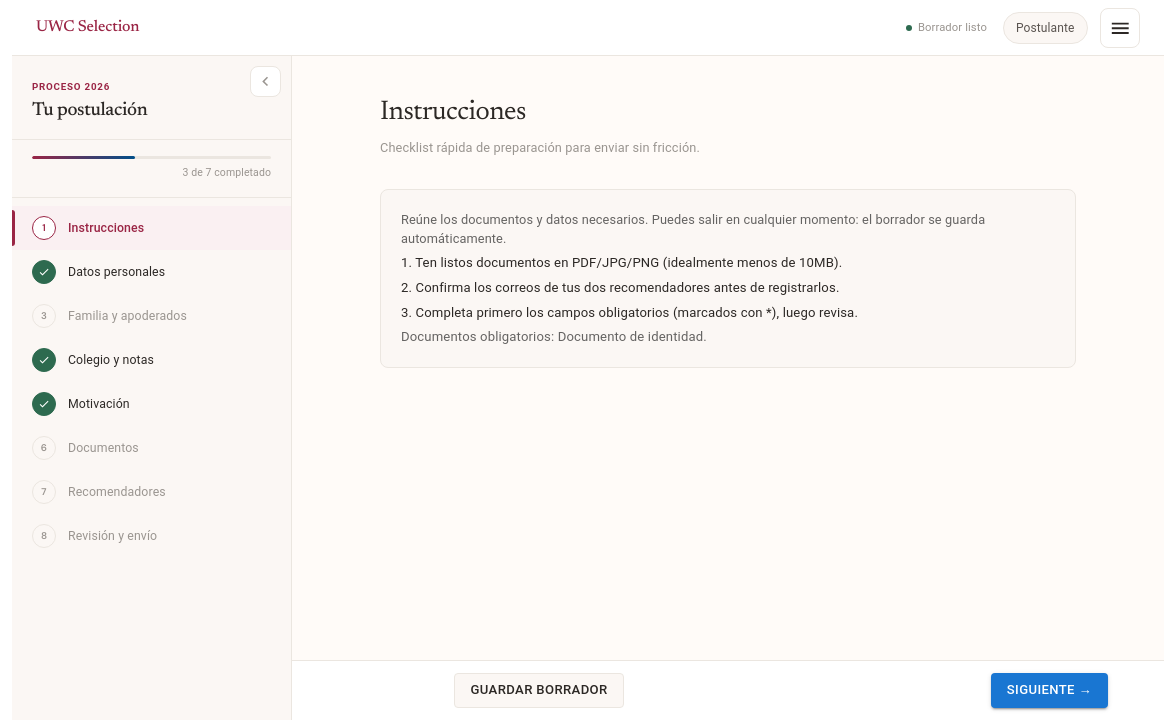
Test: ApplicantApplicationForm › allows saving a single recommender without requiring the second one yet
Step 1. Click the button "7 Recomendadores" → (152, 492), box 12,470 -> 291,514
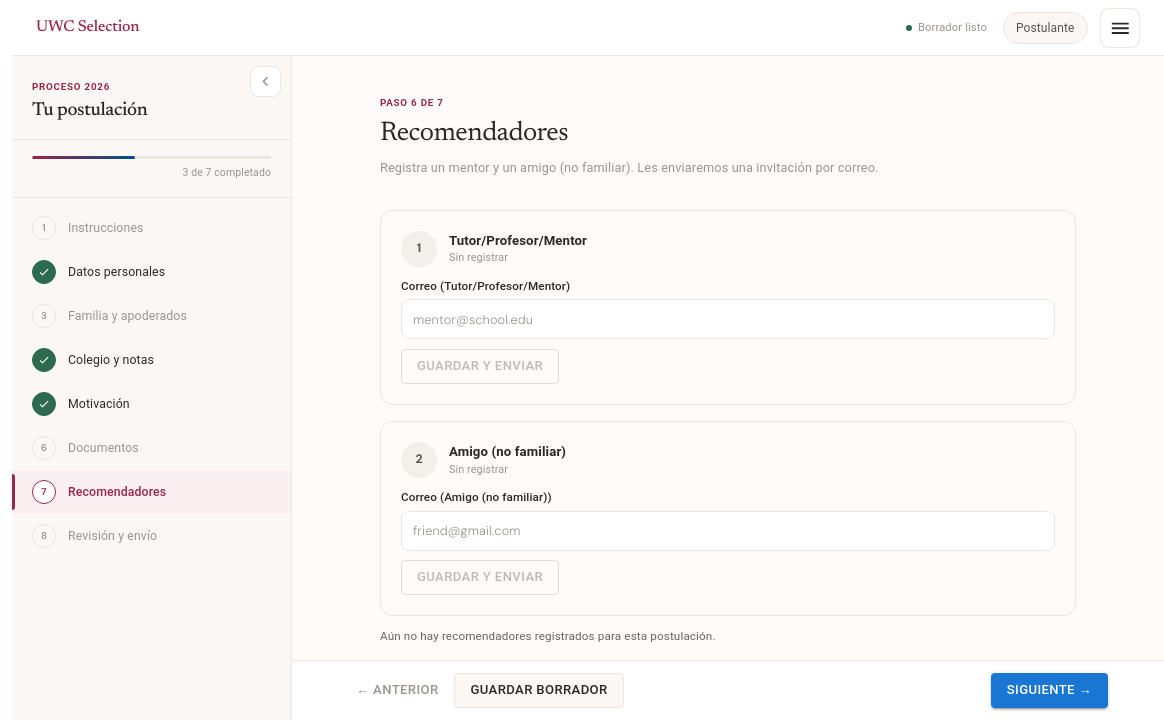
Step 2. Type "mentor@example.com" into the field named "Correo (Tutor/Profesor/Mentor)" → (728, 319), box 401,301 -> 1055,337
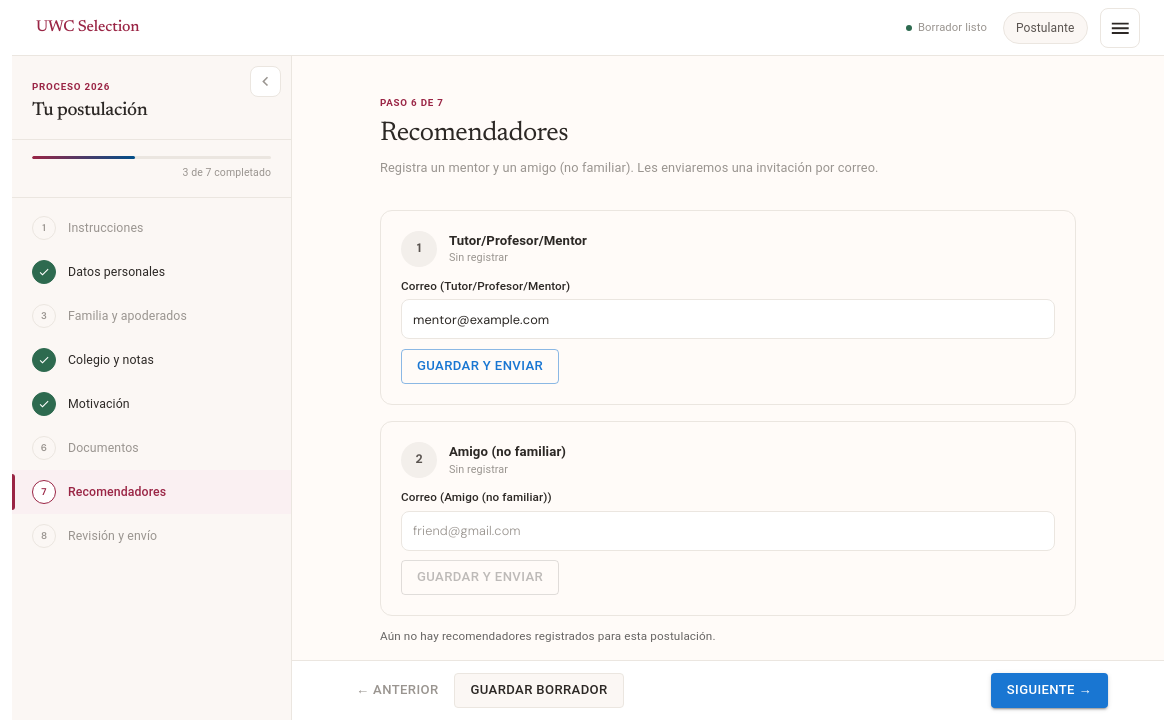
Step 3. Click the button "Guardar y enviar" below "Correo (Tutor/Profesor/Mentor)" → (480, 366), box 401,349 -> 559,384
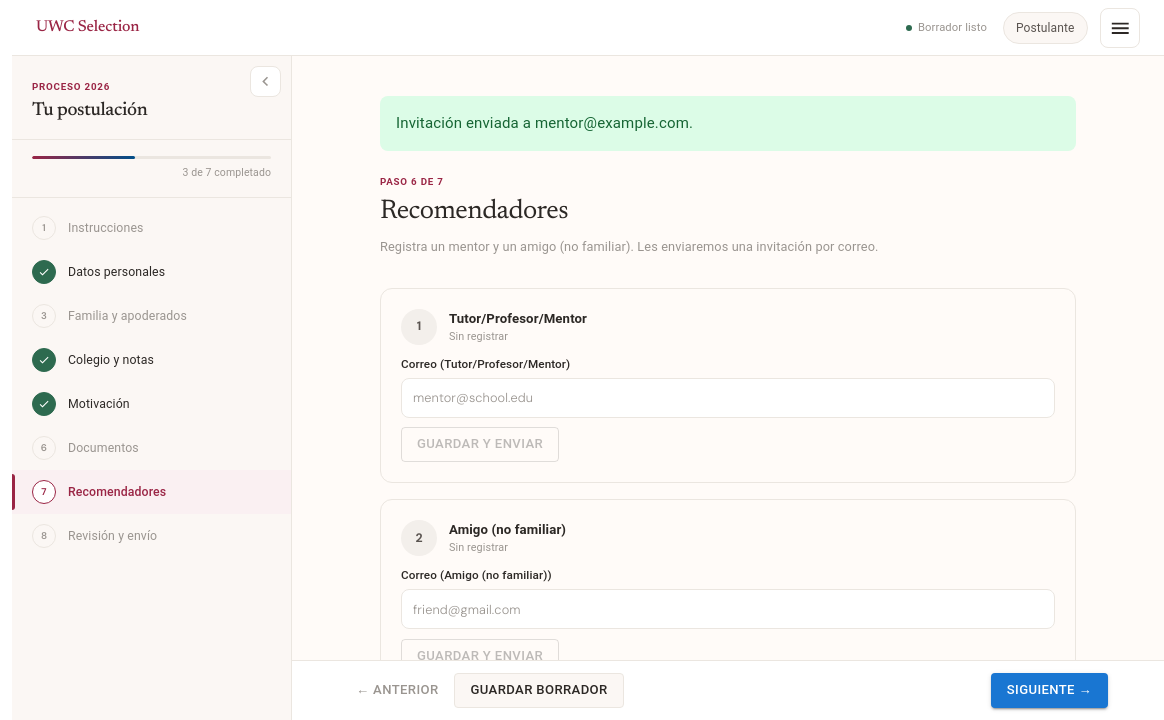
Check: the text "Invitación enviada a mentor@example.com." is shown, box 396,114 -> 693,132
